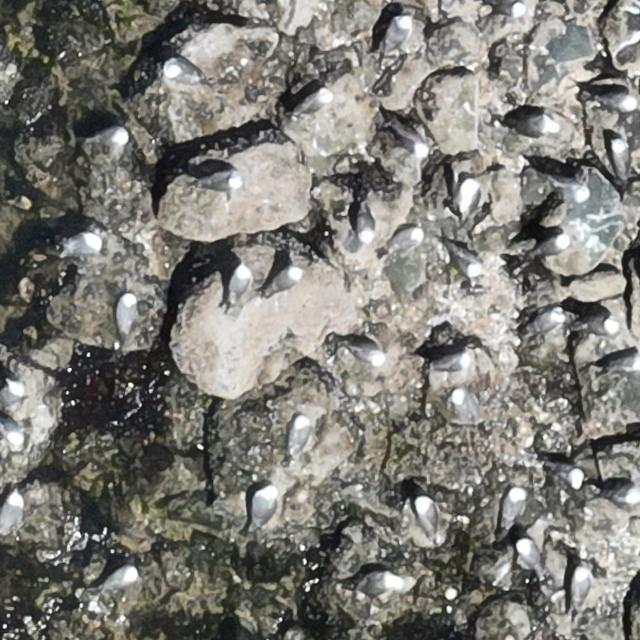umineko: (388, 111, 428, 155), (514, 308, 566, 338), (444, 237, 482, 278), (587, 80, 636, 110), (450, 178, 480, 226), (382, 12, 413, 58), (60, 229, 102, 262), (162, 57, 205, 88), (295, 86, 332, 121), (453, 387, 481, 428), (513, 111, 565, 133), (194, 171, 242, 194), (574, 313, 620, 336), (594, 348, 638, 371), (430, 350, 470, 374), (601, 481, 639, 506), (548, 463, 583, 488), (358, 572, 396, 593), (503, 488, 524, 524), (572, 565, 591, 604), (416, 500, 436, 537), (252, 488, 273, 522), (2, 414, 25, 445), (289, 418, 309, 452), (3, 495, 23, 529), (271, 267, 299, 291), (117, 294, 136, 328), (229, 268, 249, 300), (106, 569, 138, 589), (517, 539, 539, 568), (353, 345, 384, 364), (94, 128, 126, 146), (392, 228, 420, 248), (612, 139, 628, 172), (358, 212, 375, 243), (539, 236, 566, 254), (2, 383, 21, 404)
